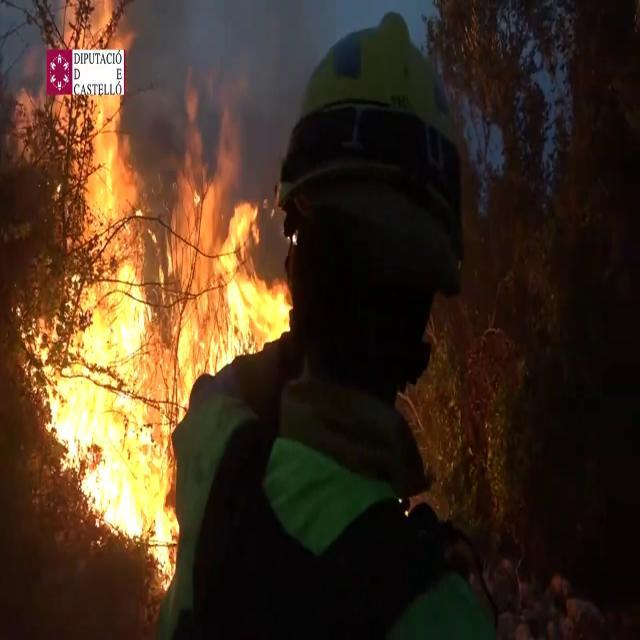Fire: (29, 87, 294, 566)
